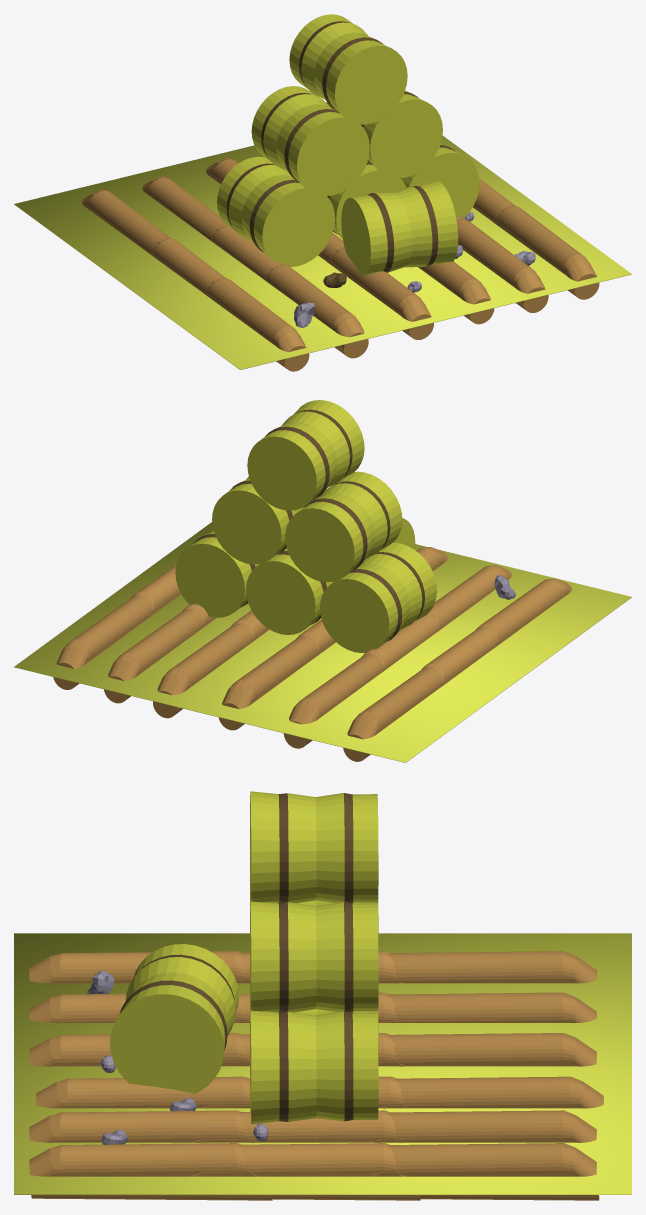
File: yellowfield2.fbx
The picture shows the model from 3 angles, top to bottom: view 1: azimuth 30°, elevation 25°; view 2: azimuth 150°, elevation 25°; view 3: azimuth 270°, elevation 25°; orthographic projection. The views are drawn at different scales.
Visible parts, largest first — view 1: Plane.001; view 2: Plane.001; view 3: Plane.001.
Boxes of the visible parts, x1,y1,x2,y2 form: Plane.001: (14, 14, 631, 371); Plane.001: (14, 400, 631, 762); Plane.001: (14, 791, 631, 1200).
Size of the model in its own units: 994 by 560 by 994.
